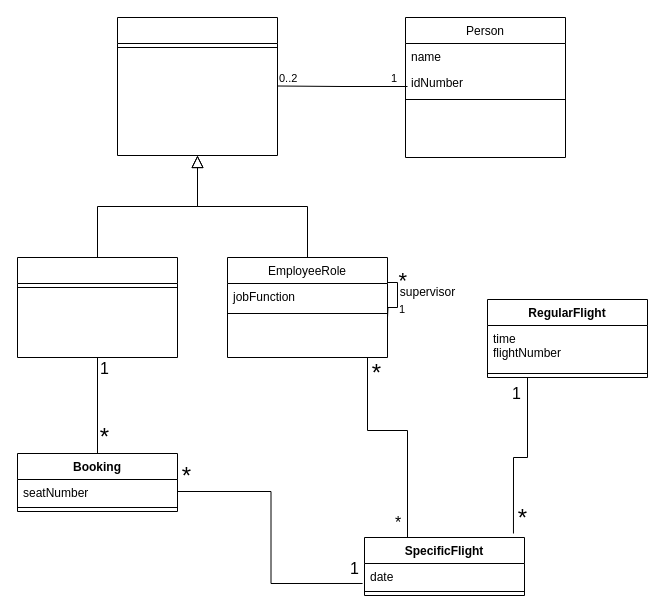
The diagram is 665 pixels wide and 613 high, and some of its shapes have lost their labels. The centre of each missing label's shape, as x and y in pixels:
"PassengerRole" belongs at pixel 97 307.
"PersonRole" belongs at pixel 197 86.
